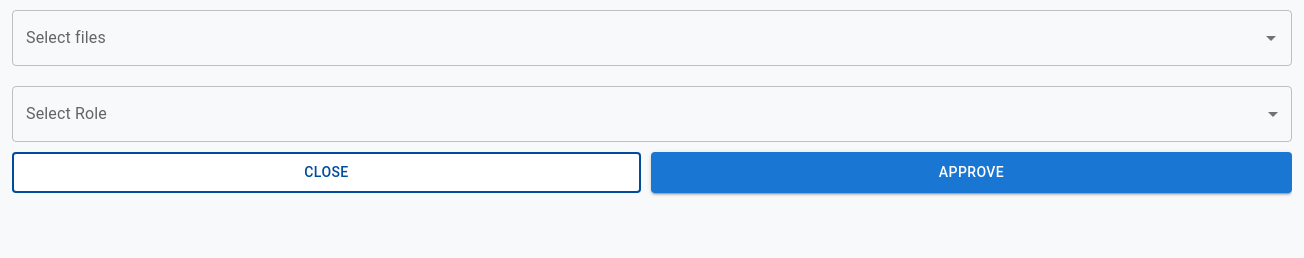
Test: RequestManagementModal › validation: submit without selecting files/role shows both errors
Click the button "Approve" at (972, 172), box x1=651 y1=152 x2=1292 y2=192
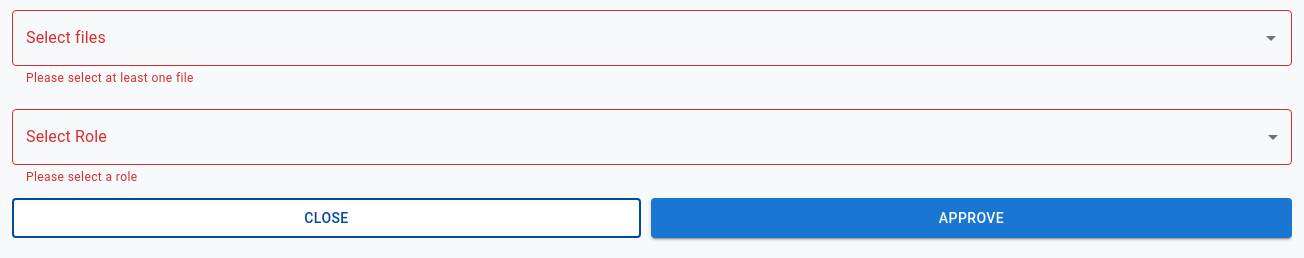
Now the text "Please select at least one file" is shown, box x1=26 y1=71 x2=194 y2=85
Now the text "Please select a role" is shown, box x1=26 y1=170 x2=138 y2=184
